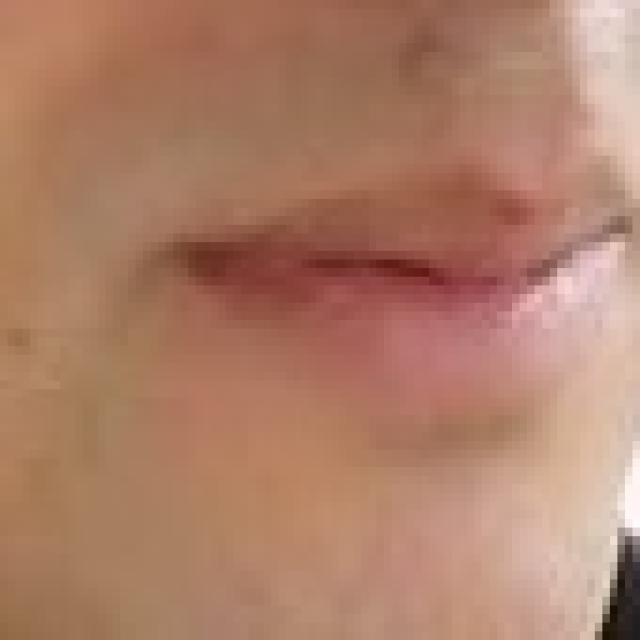closed-mouth: (143, 190, 633, 329)
